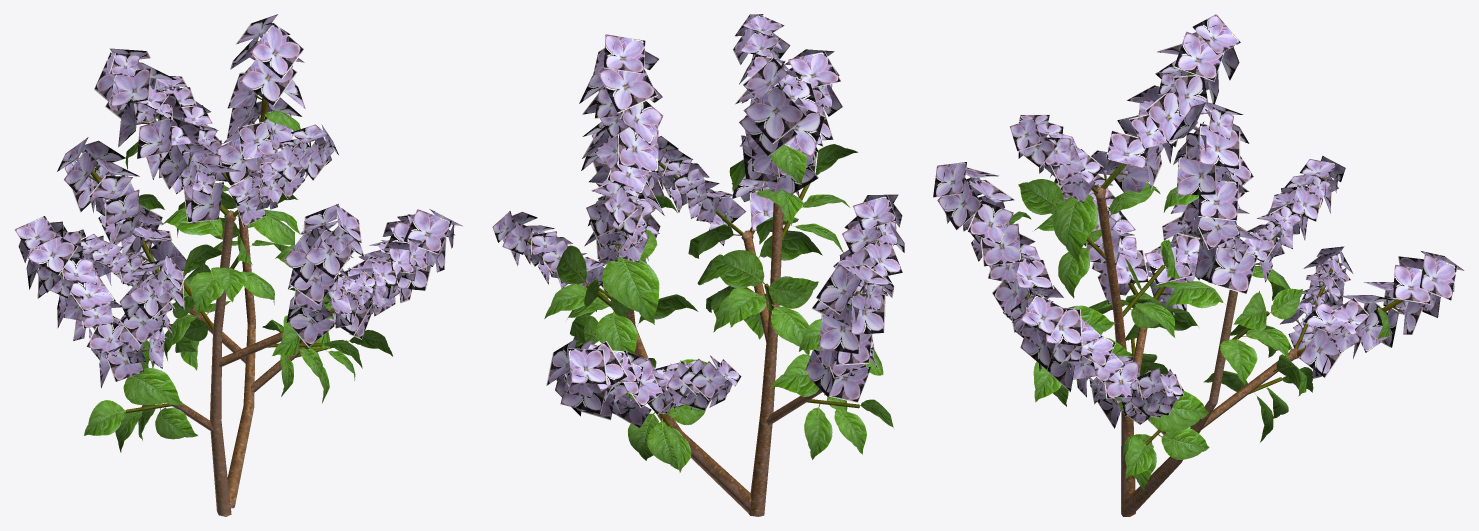
The picture shows the model from 3 angles, left to right: view 1: azimuth 30°, elevation 25°; view 2: azimuth 150°, elevation 25°; view 3: azimuth 270°, elevation 25°; orthographic projection. The views are drawn at different scales.
Parts seen in each view (by area): view 1: Lilac2; view 2: Lilac2; view 3: Lilac2.
Part boxes in pixels (x1,y1,x2,y2): Lilac2: [14, 14, 462, 516]; Lilac2: [492, 14, 904, 516]; Lilac2: [933, 14, 1464, 516].
Bounding box in the file's own units: 1.34 × 1.52 × 1.57.
3 materials, 3 textured.
